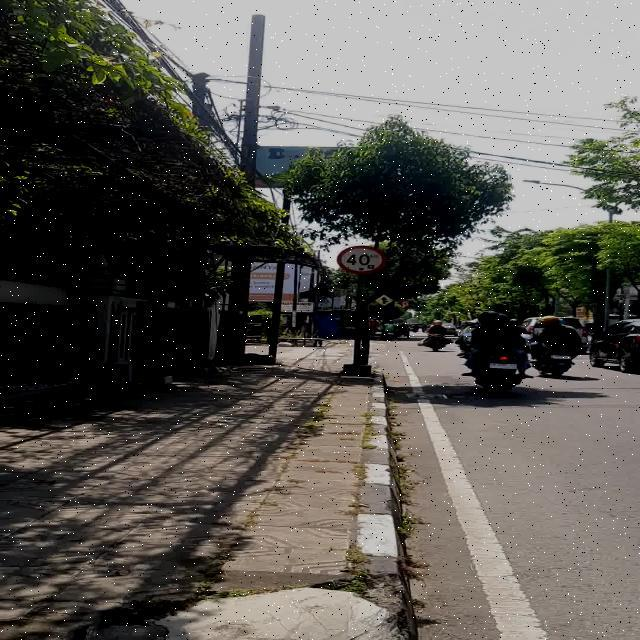Kecepatan Maks. 40 km: (336, 246, 388, 274)
